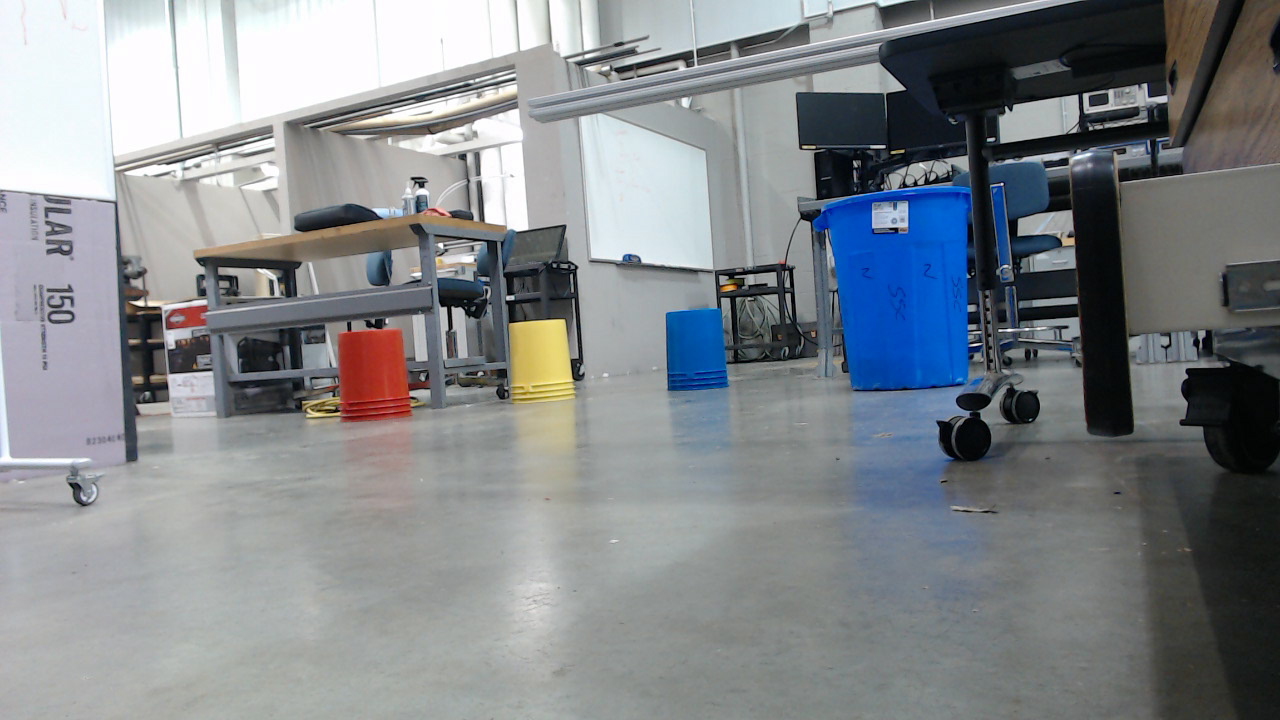blue_bucket: (669, 311, 736, 399)
red_bucket: (342, 332, 420, 429)
yellow_bucket: (510, 322, 583, 413)
